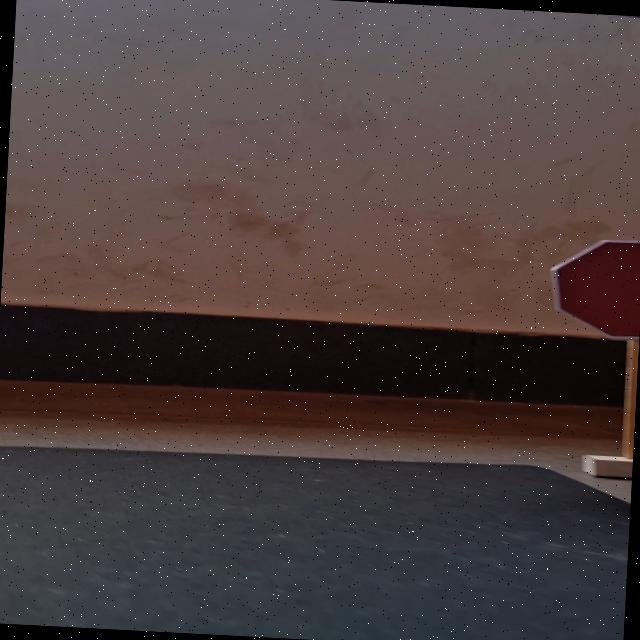Stop: (537, 228, 640, 343)
